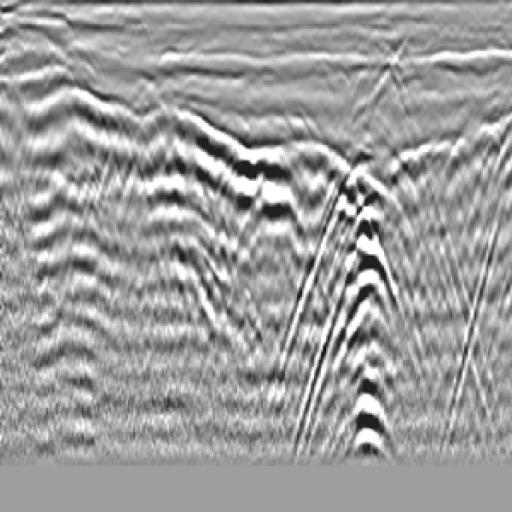metalic: (204, 133, 338, 304)
non-metallic: (286, 147, 439, 461)
